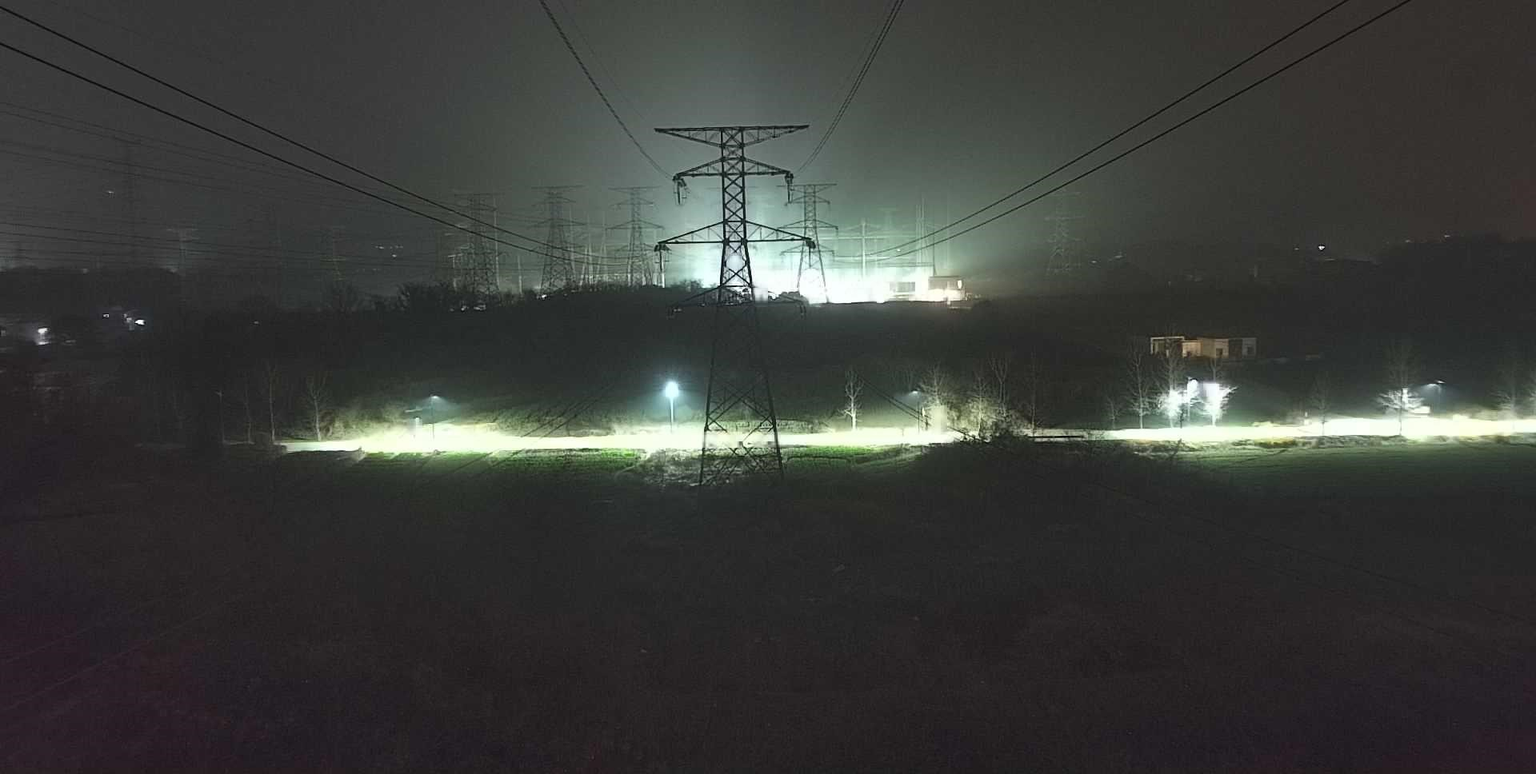过爆灯光: (692, 241, 823, 305), (823, 263, 964, 301), (1202, 382, 1229, 419), (1160, 389, 1183, 416), (1182, 379, 1198, 402)
